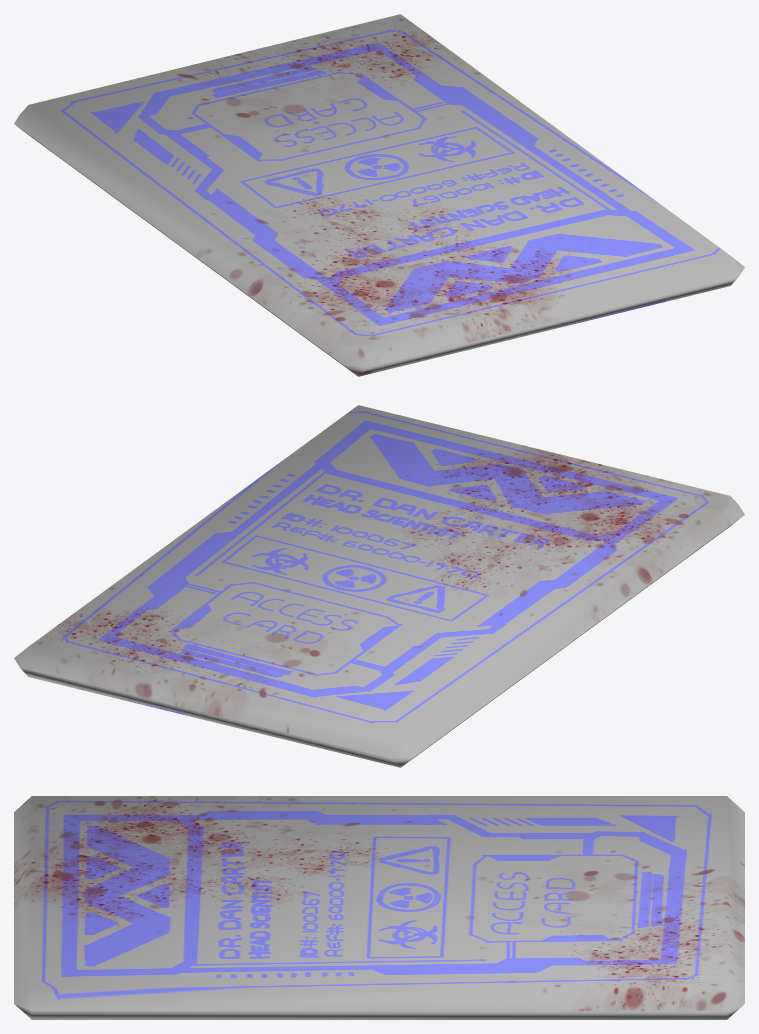
The model's file is Card.fbx.
3 views of the same model, one above another, from view 1: azimuth 30°, elevation 25°; view 2: azimuth 150°, elevation 25°; view 3: azimuth 270°, elevation 25° (orthographic). The views are drawn at different scales.
Parts seen in each view (by area): view 1: Cube; view 2: Cube; view 3: Cube.
Boxes of the visible parts, box(x1,y1,x2,y2) form: Cube: box(14, 14, 744, 376); Cube: box(14, 405, 744, 767); Cube: box(14, 796, 744, 1019).
Bounding box in the file's own units: 84.16 × 126 × 6.14.
Materials: 1 (1 with a texture image).
